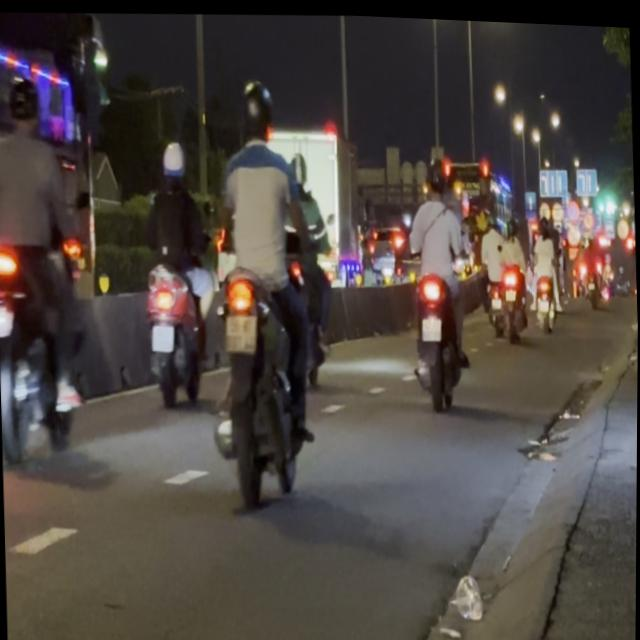helmet: (236, 74, 273, 139), (3, 60, 37, 130), (157, 136, 186, 186)
licenseplate: (202, 69, 329, 506), (0, 32, 98, 483), (134, 133, 215, 407), (401, 142, 472, 405)
nohelmet: (222, 309, 255, 349), (149, 321, 172, 349), (419, 310, 440, 335)
